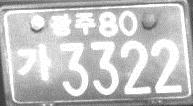0: (118, 9, 138, 38)
2: (150, 36, 183, 94), (118, 38, 151, 95)
3: (57, 41, 89, 97), (88, 39, 119, 96)
8: (97, 10, 119, 38)
가: (16, 42, 54, 82)
광주_O: (49, 11, 96, 38)
